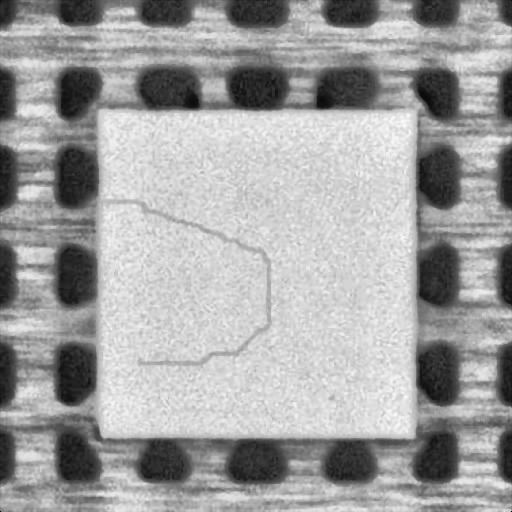DIE_CRACK: (103, 198, 269, 366)
